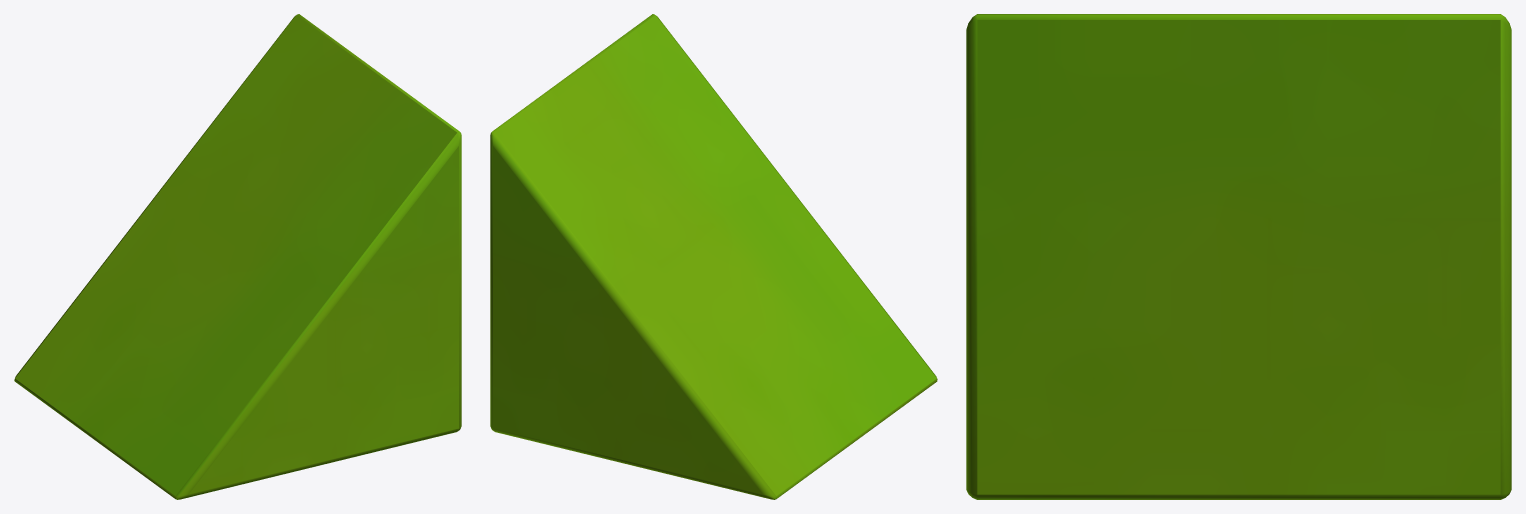
File: WedgeGreen.fbx
3 views of the same model, side by side, from view 1: azimuth 30°, elevation 25°; view 2: azimuth 150°, elevation 25°; view 3: azimuth 270°, elevation 25° (orthographic). The views are drawn at different scales.
Visible parts, largest first — view 1: Wedge; view 2: Wedge; view 3: Wedge.
Part boxes in pixels (bbox=[...]): Wedge: bbox=[14, 14, 461, 499]; Wedge: bbox=[490, 14, 937, 499]; Wedge: bbox=[966, 14, 1511, 499].
Bounding box in the file's own units: 1.97 × 1.97 × 2.
